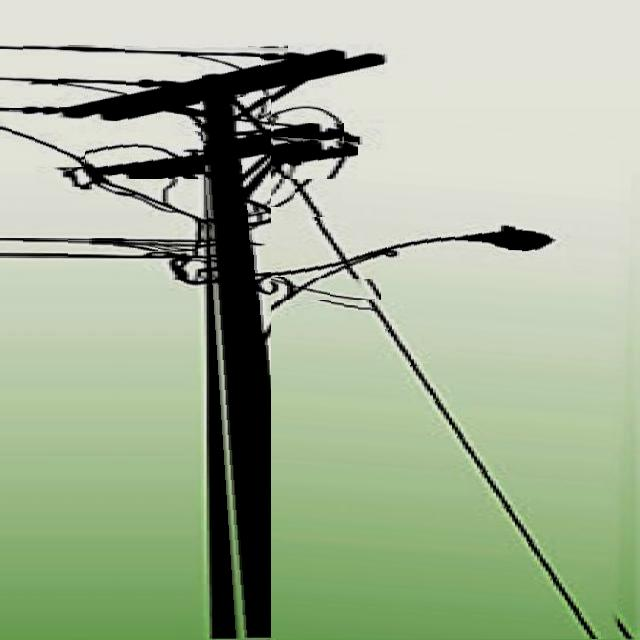crossarm: (59, 49, 384, 123), (86, 137, 358, 179)
pole: (201, 98, 271, 639)
wire: (236, 99, 606, 639), (241, 105, 344, 218), (0, 126, 178, 167), (237, 78, 305, 120), (262, 277, 381, 300), (0, 46, 288, 54), (258, 152, 297, 207), (1, 238, 165, 251), (43, 82, 112, 95), (0, 253, 208, 257), (163, 171, 178, 205), (195, 57, 239, 68), (0, 108, 68, 112)
